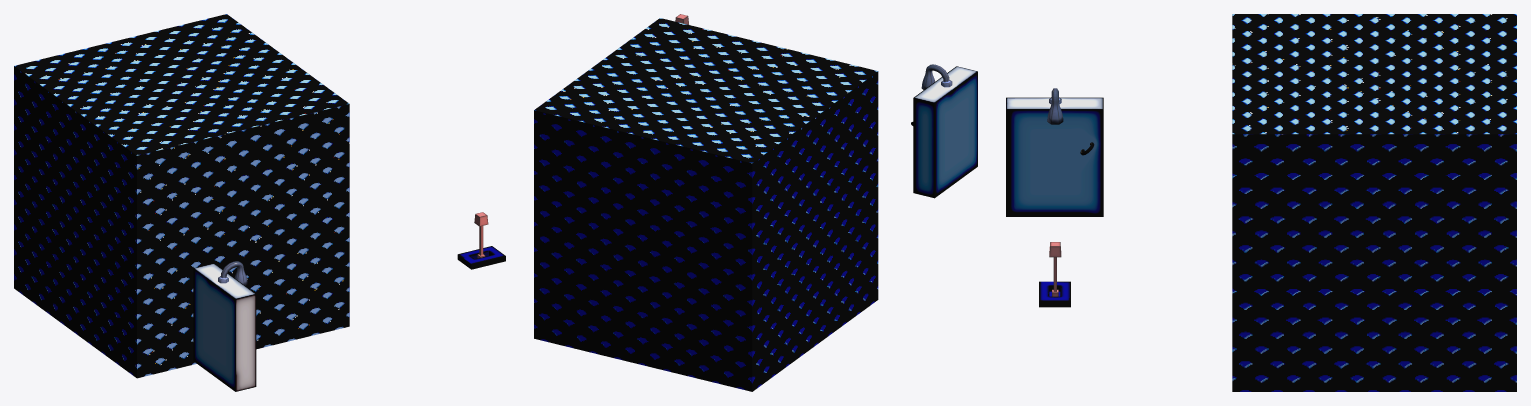
Rendered from lab.glb.
The picture shows the model from 3 angles, left to right: view 1: azimuth 30°, elevation 25°; view 2: azimuth 150°, elevation 25°; view 3: azimuth 270°, elevation 25°; orthographic projection. The views are drawn at different scales.
Parts seen in each view (by area): view 1: Cube.016, Cube.015, Cube.018; view 2: Cube.016, Cube.015, NurbsPath.004; view 3: Cube.016, Cube.015, Cube.018.
Boxes of the visible parts, x1=… form: Cube.016: x1=14, y1=14, x2=349, y2=378; Cube.015: x1=193, y1=263, x2=256, y2=391; Cube.018: x1=457, y1=246, x2=505, y2=269; Cube.016: x1=534, y1=18, x2=878, y2=391; Cube.015: x1=913, y1=66, x2=977, y2=198; NurbsPath.004: x1=921, y1=64, x2=952, y2=89; Cube.016: x1=1232, y1=14, x2=1516, y2=391; Cube.015: x1=1006, y1=97, x2=1103, y2=216; Cube.018: x1=1039, y1=281, x2=1070, y2=307.
Bounding box in the file's own units: 55.31 × 41.24 × 74.06.
Materials: 6 (6 with a texture image).
